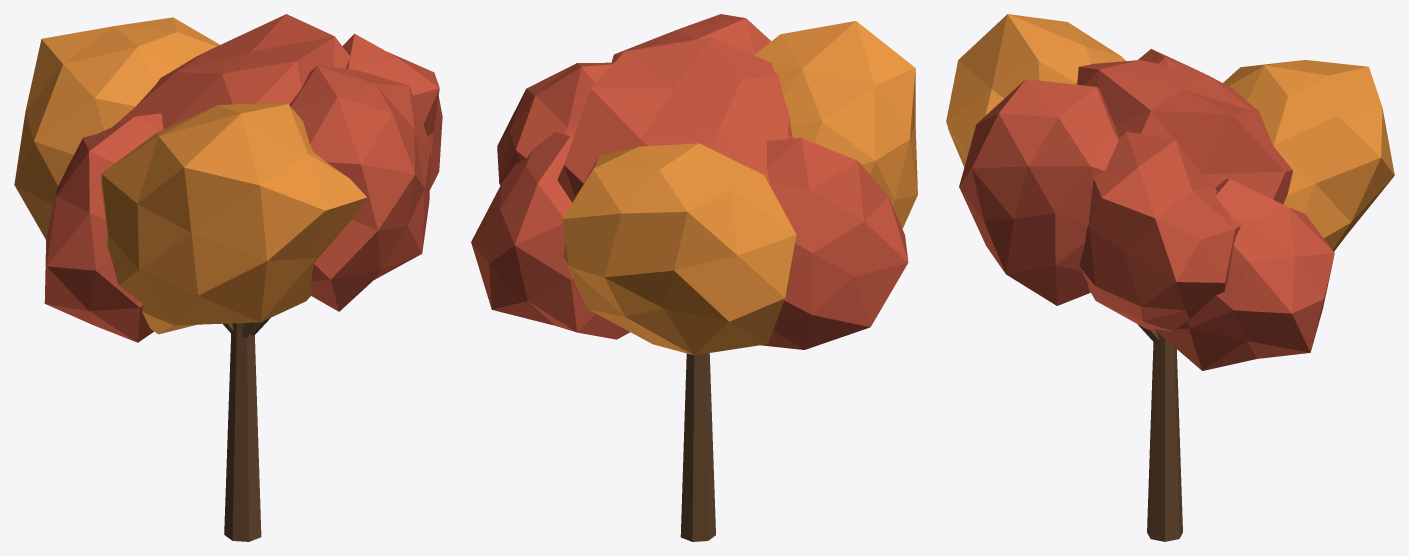
File: maple-red.glb
3 renders of one model, left to right at view 1: azimuth 30°, elevation 25°; view 2: azimuth 150°, elevation 25°; view 3: azimuth 270°, elevation 25°, orthographic. The views are drawn at different scales.
Parts seen in each view (by area): view 1: tree; view 2: tree; view 3: tree.
Boxes of the visible parts, x1,y1,x2,y2 form: tree: (14,14,442,541); tree: (471,14,917,541); tree: (946,14,1394,541).
Size of the model in its own units: 8.93 by 10.32 by 8.73.
